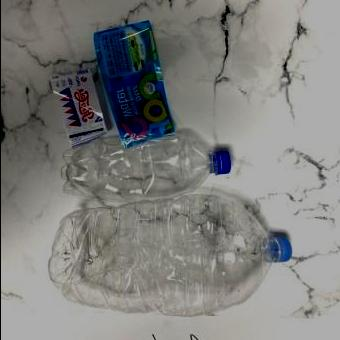bottle: (51, 201, 289, 317), (64, 134, 230, 202)
